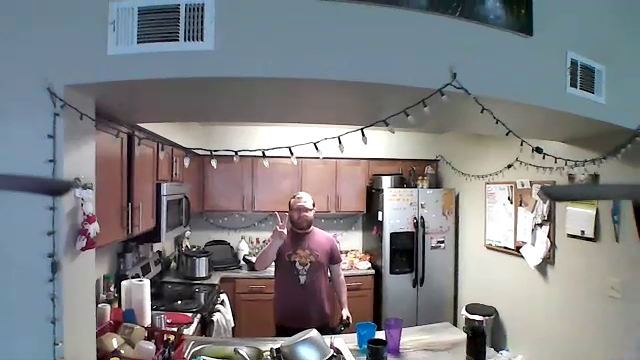peace: (269, 205, 292, 241)
